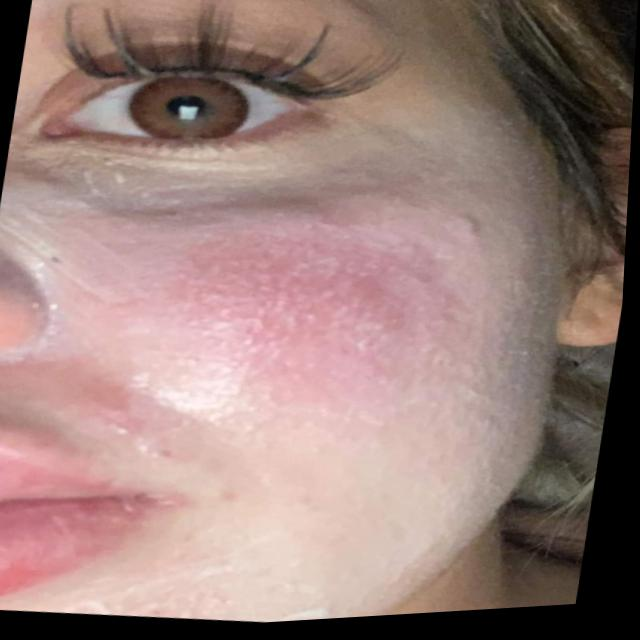Eczema Mild: (121, 197, 531, 447)
